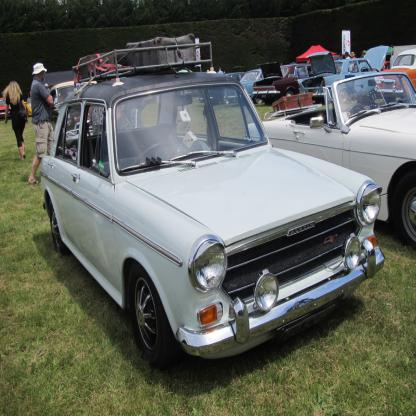Car: (0, 40, 416, 362)
